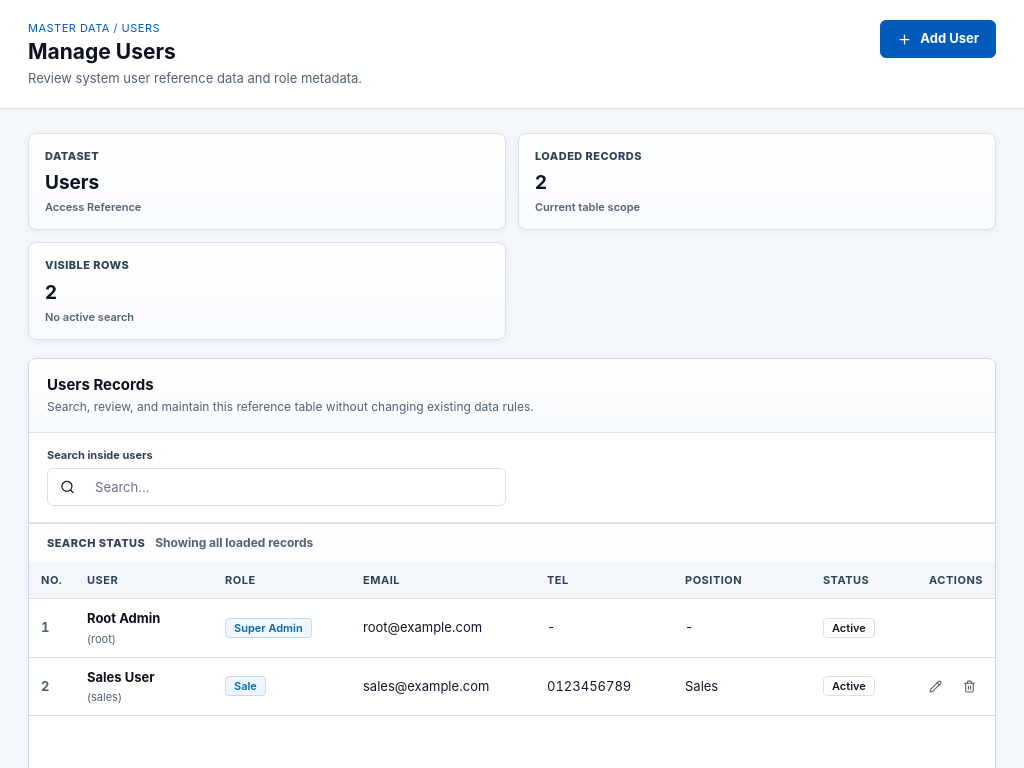
Test: MasterDataView user management › opens create form with required password and hides Super Admin from Admin
Click the button "Add User". click: (938,39)
box: [880,20,996,58]
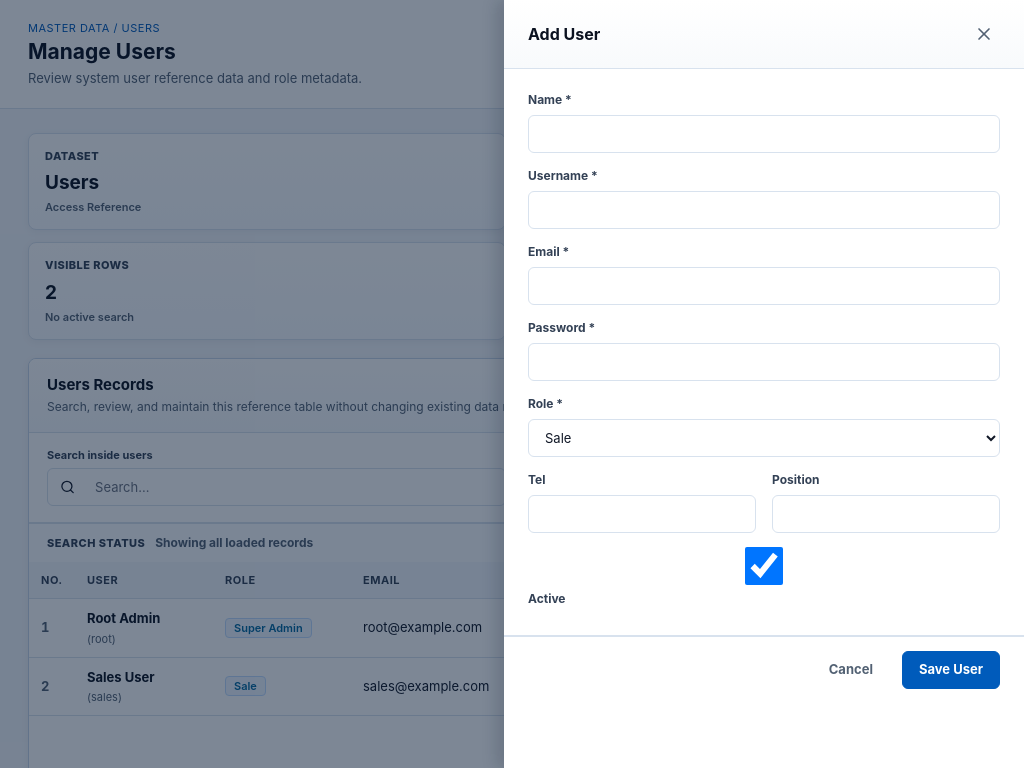
Check: the heading "Add User" is shown, box [528,22,600,46]
